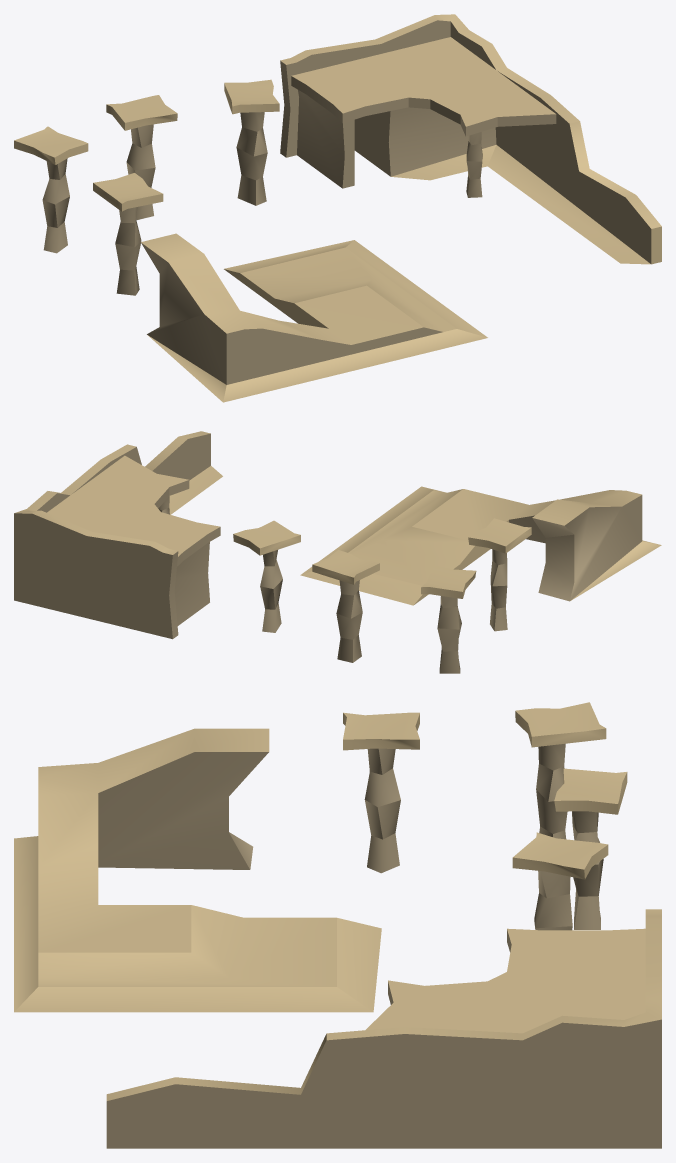
File: practice.FBX
The picture shows the model from 3 angles, top to bottom: view 1: azimuth 30°, elevation 25°; view 2: azimuth 150°, elevation 25°; view 3: azimuth 270°, elevation 25°; orthographic projection. The views are drawn at different scales.
Visible parts, largest first — view 1: practice; view 2: practice; view 3: practice.
Part boxes in pixels (box(x1,y1,x2,y2)): practice: box(14, 14, 661, 402); practice: box(14, 431, 661, 673); practice: box(14, 702, 661, 1148).
Size of the model in its own units: 490 by 103 by 433.
